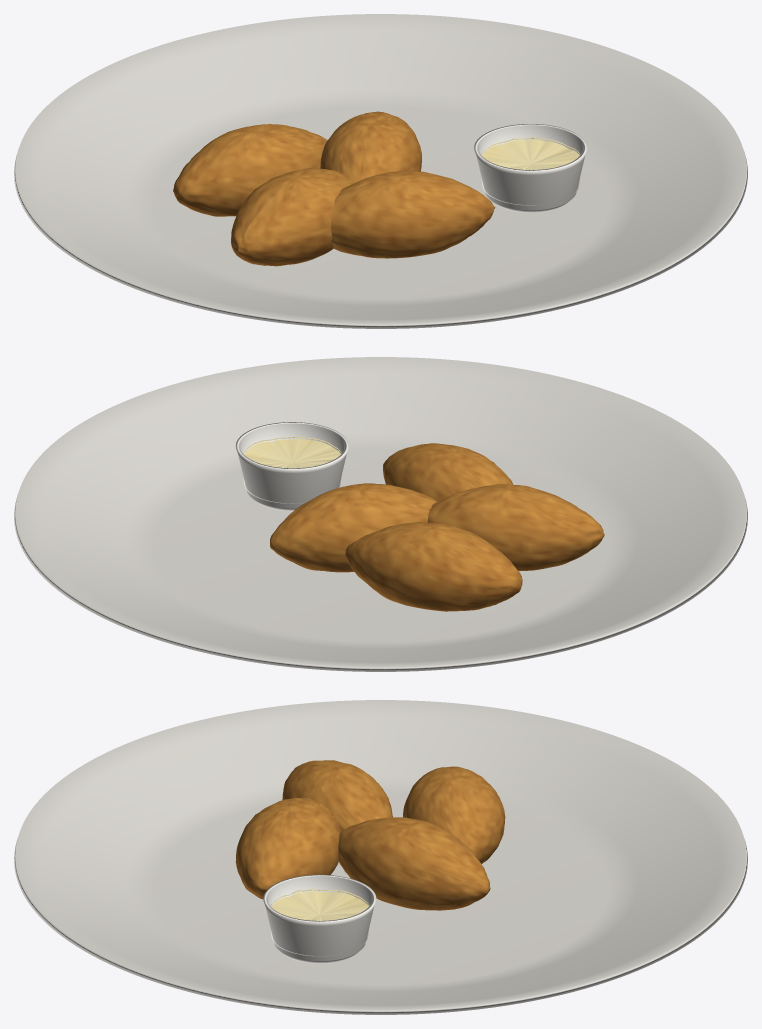
Rendered from pasteis-de-bacalhau.glb.
3 views of the same model, one above another, from view 1: azimuth 30°, elevation 25°; view 2: azimuth 150°, elevation 25°; view 3: azimuth 270°, elevation 25° (orthographic).
Parts seen in each view (by area): view 1: plate, pastel (×4), taca, maionese-de-limao; view 2: plate, pastel (×4), taca, maionese-de-limao; view 3: plate, pastel (×4), taca, maionese-de-limao.
Part boxes in pixels (x1,y1,x2,y2): plate: (14, 14, 747, 328); pastel (×4): (173, 111, 495, 266); taca: (474, 124, 587, 212); maionese-de-limao: (481, 137, 580, 169); plate: (14, 357, 747, 671); pastel (×4): (270, 443, 604, 611); taca: (236, 422, 348, 511); maionese-de-limao: (243, 436, 341, 468); plate: (14, 700, 747, 1014); pastel (×4): (235, 760, 505, 910); taca: (263, 874, 376, 963); maionese-de-limao: (270, 889, 369, 920).
Bounding box in the file's own units: 0.24 × 0.0306 × 0.24.
